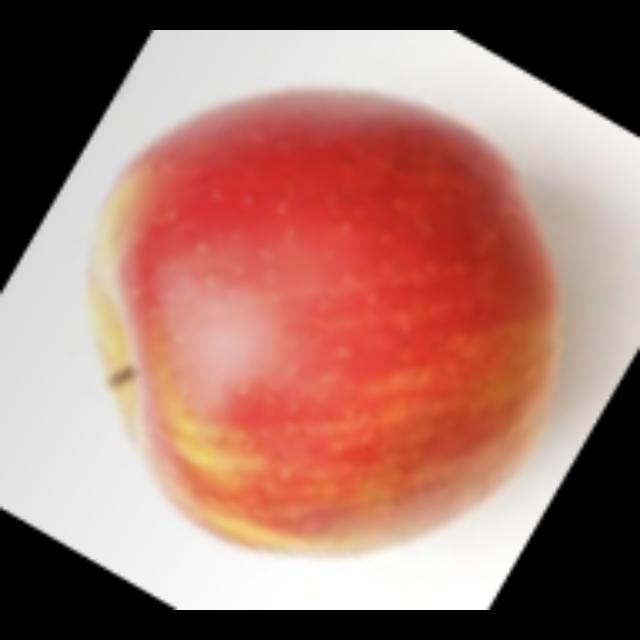Apel Segar: (76, 77, 566, 568)
